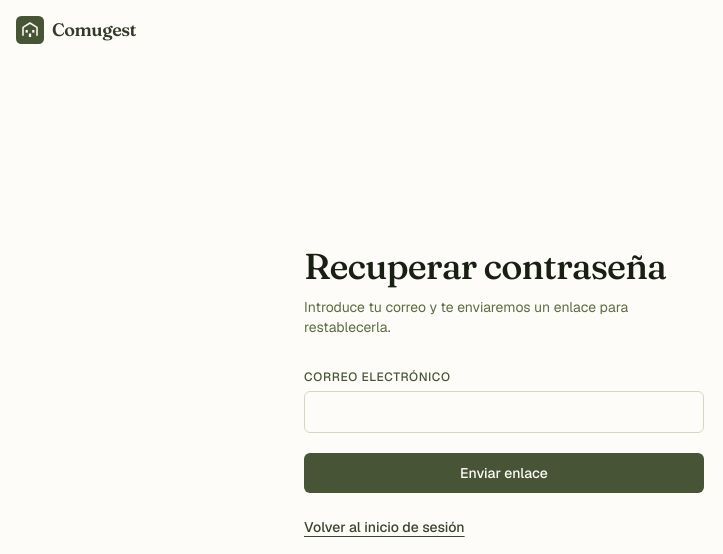
Test: ForgotPasswordPage › does not show the success state before forgotPassword() resolves
In the field labelled "Correo electrónico": {"x": 504, "y": 412} [304,390,704,432], type "test@example.com"
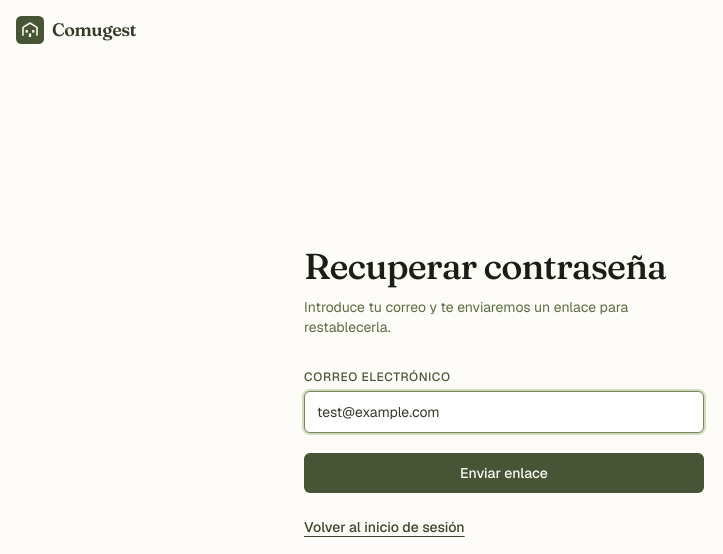
Click the button "Enviar enlace": {"x": 504, "y": 472} [304,452,704,492]
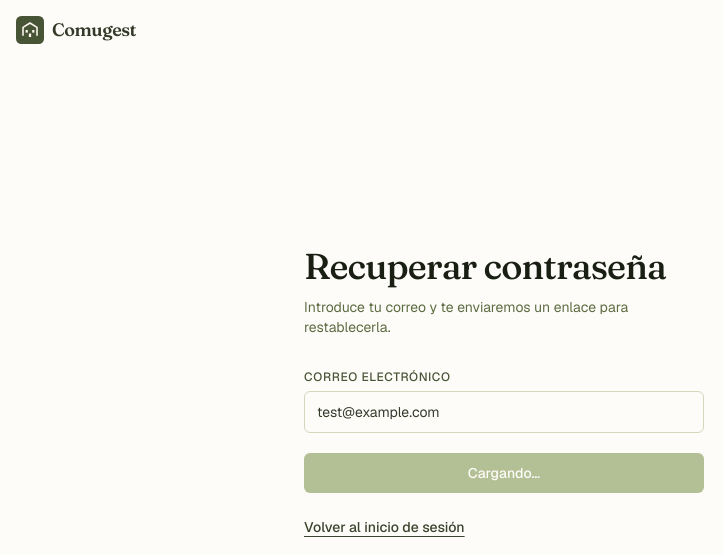
Result: the button "Cargando…" is disabled at [304,452,704,492]
